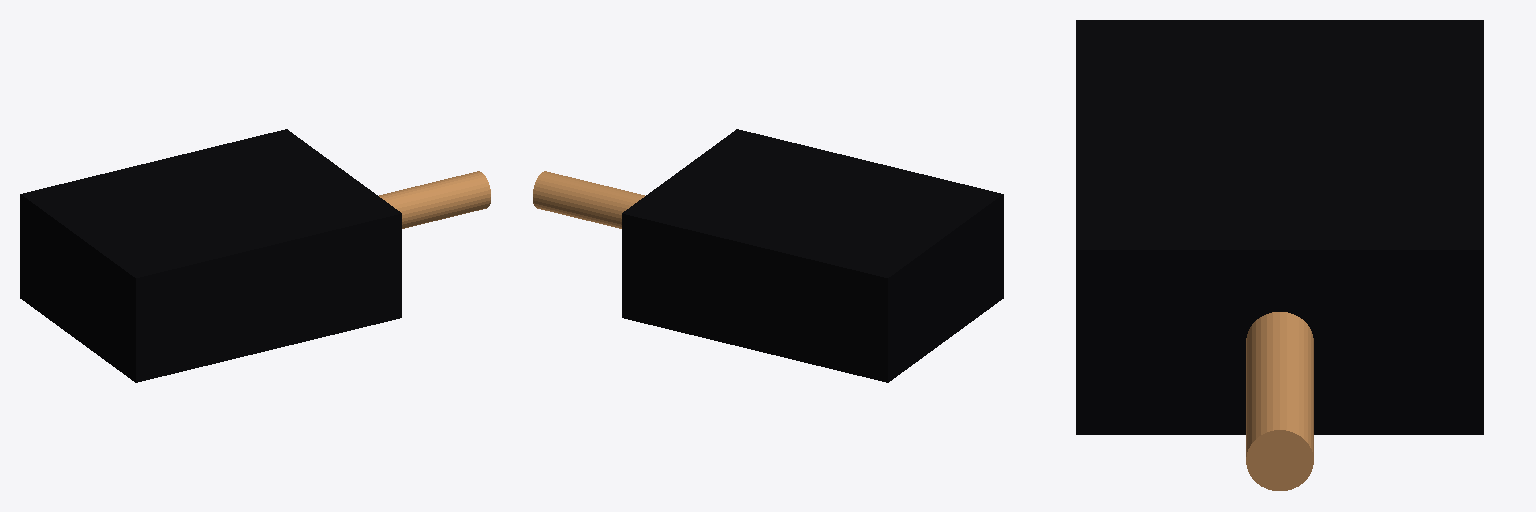
The robot description file, URDF, robot "spyder_torso":
<?xml version="1.0"?>
<!-- A first, minimal URDF (Phase 3 rehearsal of the portable format).
     Not the full robot: just a torso wearing the box-mesh skin + one leg on a
     hinge, enough to prove URDF -> MuJoCo import works (meshes included).
     Phase 4 authors the real, full robot URDF from CAD. -->
<robot name="spyder_torso">

  <!-- MuJoCo reads this <mujoco> block when importing a URDF. Two gotchas it fixes:
       - discardvisual="false": by default MuJoCo THROWS AWAY visual meshes on
         URDF import; this keeps them.
       - meshdir: where to find the STL (relative to this .urdf file). -->
  <mujoco>
    <compiler meshdir="../models/assets" discardvisual="false" balanceinertia="true"/>
  </mujoco>

  <!-- a "link" = one rigid part. The torso, wearing the box-mesh skin. -->
  <link name="torso">
    <inertial>
      <mass value="1.0"/>
      <inertia ixx="0.02" ixy="0" ixz="0" iyy="0.02" iyz="0" izz="0.02"/>
    </inertial>
    <visual>
      <geometry><mesh filename="torso_shell.stl"/></geometry>
      <material name="black"><color rgba="0.07 0.07 0.08 1"/></material>
    </visual>
    <collision>
      <geometry><sphere radius="0.25"/></geometry>
    </collision>
  </link>

  <!-- a second link: one stub leg (URDF has no "capsule", so a cylinder). -->
  <link name="leg">
    <inertial>
      <mass value="0.1"/>
      <inertia ixx="0.001" ixy="0" ixz="0" iyy="0.001" iyz="0" izz="0.001"/>
    </inertial>
    <visual>
      <origin xyz="0.2 0 0" rpy="0 1.5708 0"/>
      <geometry><cylinder radius="0.04" length="0.4"/></geometry>
      <material name="tan"><color rgba="0.8 0.6 0.4 1"/></material>
    </visual>
  </link>

  <!-- a "joint" connects two links. revolute = a hinge, like the Ant's hips. -->
  <joint name="hip" type="revolute">
    <parent link="torso"/>
    <child link="leg"/>
    <origin xyz="0.25 0 0"/>
    <axis xyz="0 0 1"/>
    <limit lower="-0.5" upper="0.5" effort="150" velocity="10"/>
  </joint>

</robot>

--- What the picture shows (computed from the rendered views, not written in the file) ---
The picture shows the robot from 3 angles, left to right: view 1: azimuth 30°, elevation 25°; view 2: azimuth 150°, elevation 25°; view 3: azimuth 270°, elevation 25°; orthographic projection.
Model spyder_torso with 2 links and 1 joints (1 revolute), rooted at torso, posed every joint at zero.
Links seen in each view (by area): view 1: torso, leg; view 2: torso, leg; view 3: torso, leg.
Boxes of the visible links, left/top/right/bottom form: torso: left=20, top=129, right=401, bottom=382; leg: left=379, top=171, right=490, bottom=228; torso: left=622, top=129, right=1003, bottom=382; leg: left=533, top=171, right=644, bottom=228; torso: left=1076, top=20, right=1483, bottom=434; leg: left=1246, top=312, right=1313, bottom=490.
Bounding box of the posed robot: 0.97 × 0.48 × 0.24 m (x, y, z).
Meshes: 1 distinct files referenced, 1 mesh visuals loaded (1 binary STL).
